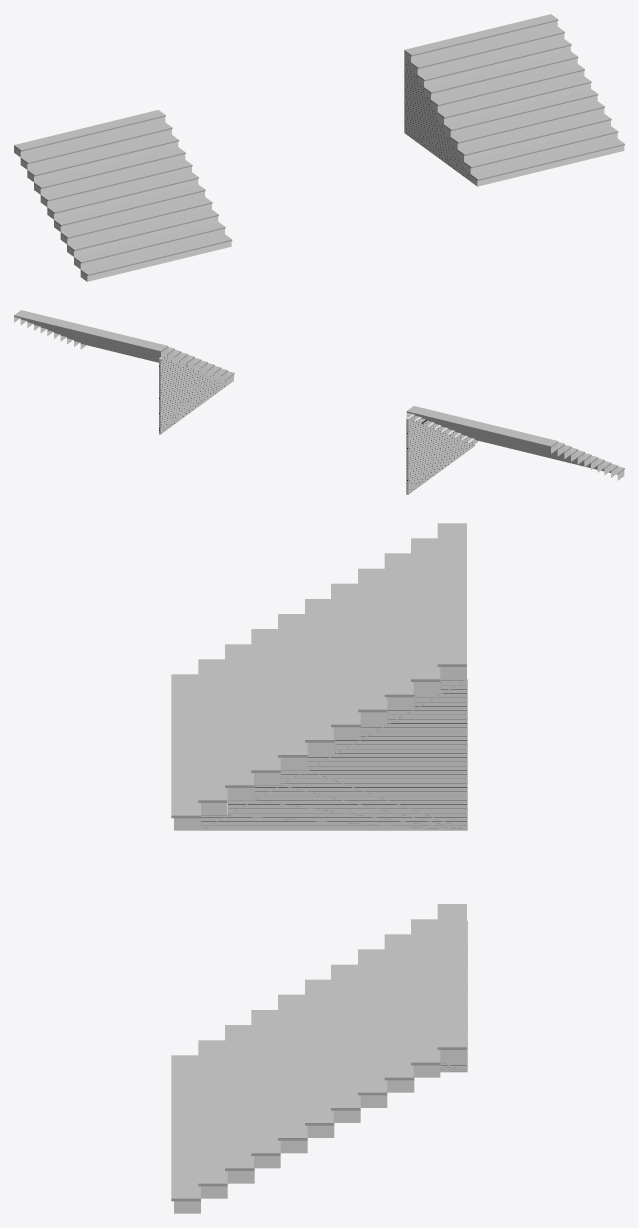
File: Stairs.fbx
The picture shows the model from 3 angles, top to bottom: view 1: azimuth 30°, elevation 25°; view 2: azimuth 150°, elevation 25°; view 3: azimuth 270°, elevation 25°; orthographic projection. The views are drawn at different scales.
Parts seen in each view (by area): view 1: Stairs; view 2: Stairs; view 3: Stairs.
Boxes of the visible parts, x1=… form: Stairs: x1=14, y1=14, x2=624, y2=281; Stairs: x1=14, y1=310, x2=624, y2=494; Stairs: x1=171, y1=523, x2=467, y2=1213.
Bounding box in the file's own units: 1388 × 205 × 331.
